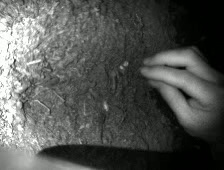corn: (103, 102, 109, 112), (123, 60, 130, 67), (119, 65, 124, 70)
